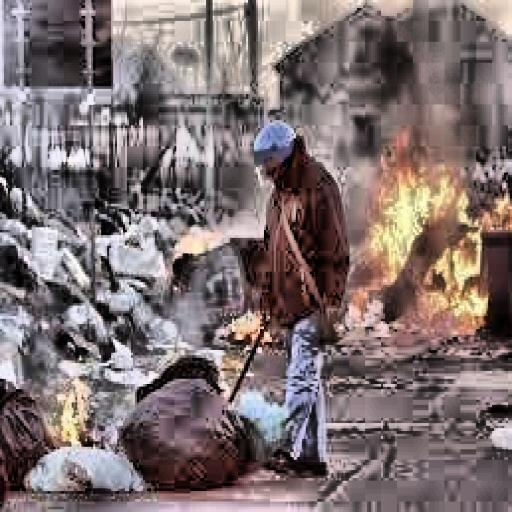fire: (349, 144, 496, 321), (30, 374, 103, 457), (165, 227, 230, 277)
